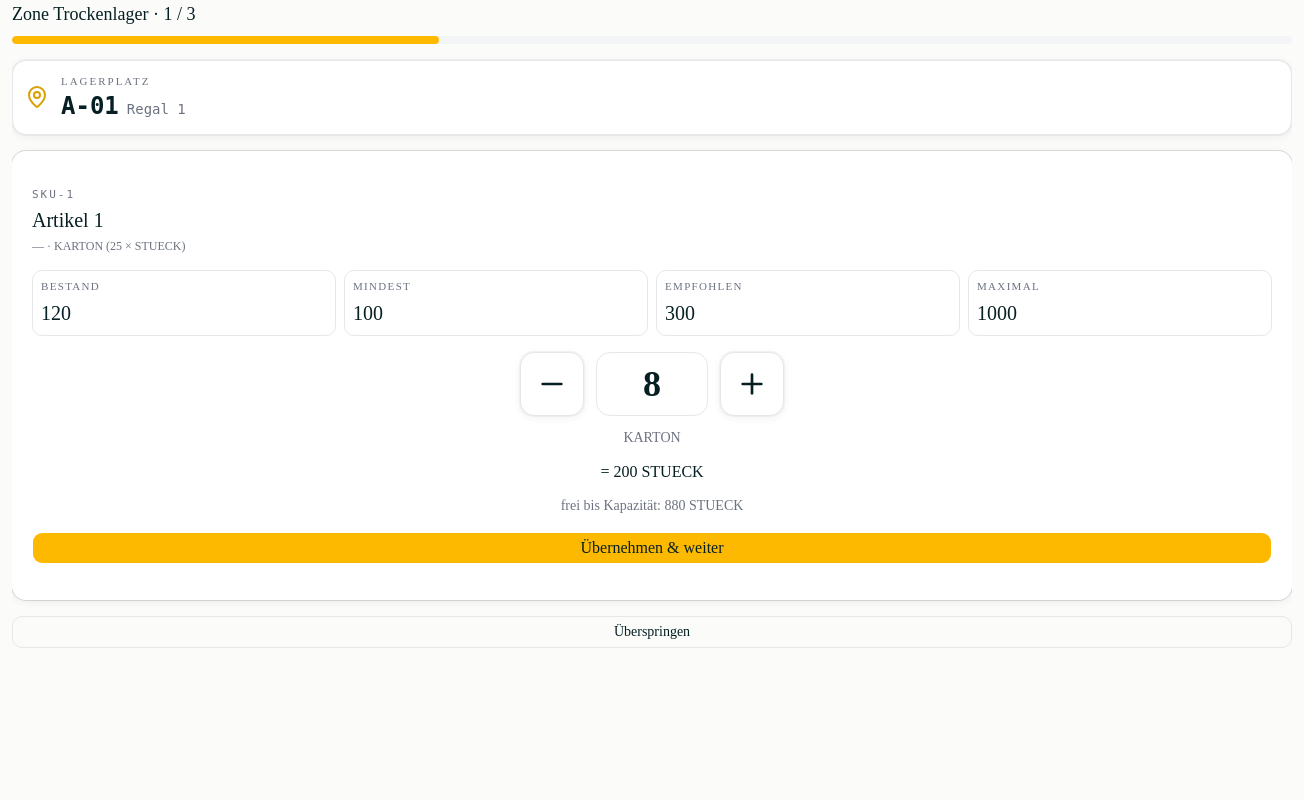
Scenario: ZoneWalk › Überspringen springt ohne PUT, Zurück geht zurück
The image size is (1304, 800).
Expected: the heading "Artikel 1" is shown, x1=32 y1=209 x2=104 y2=231
Click the button "Überspringen" at (652, 632), box x1=12 y1=616 x2=1292 y2=648
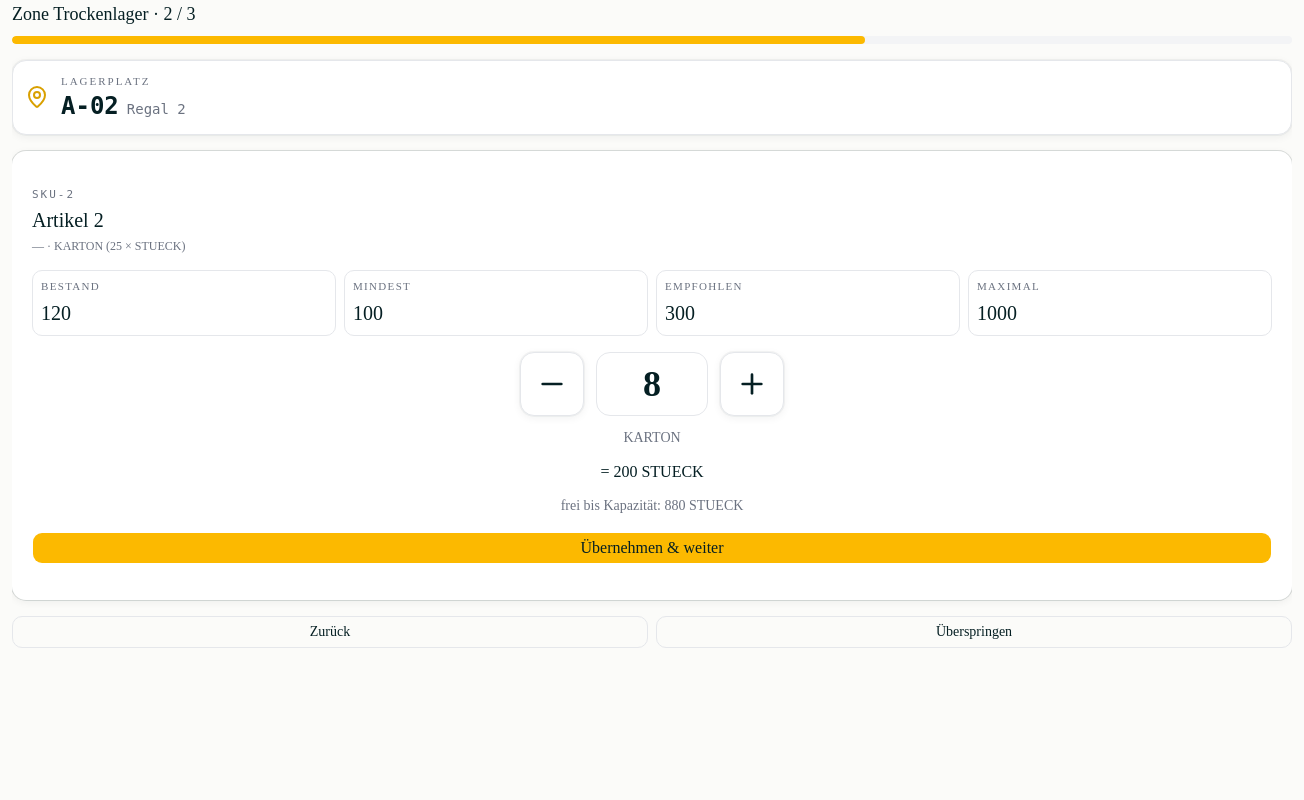
Expected: the heading "Artikel 2" is shown, x1=32 y1=209 x2=104 y2=231
Click the button "Zurück" at (330, 632), box x1=12 y1=616 x2=648 y2=648
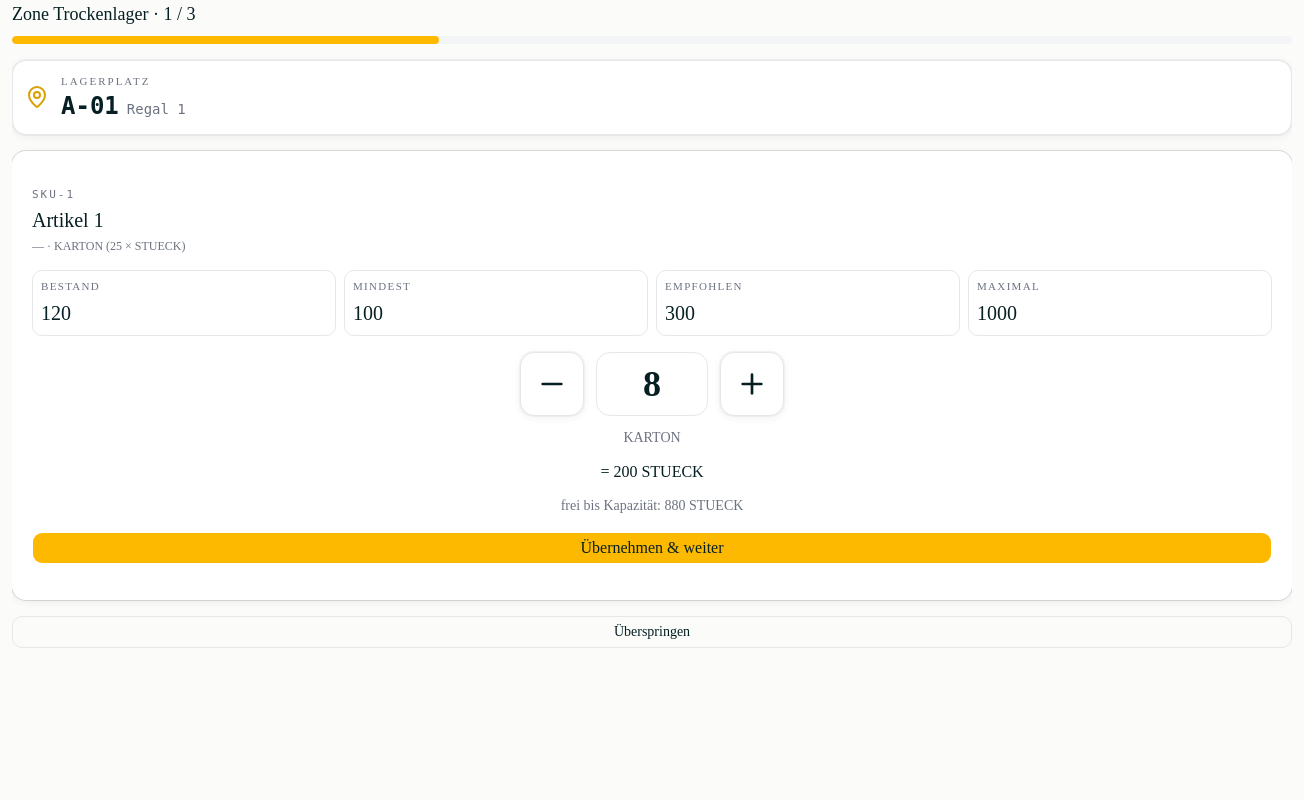
Expected: the heading "Artikel 1" is shown, x1=32 y1=209 x2=104 y2=231
